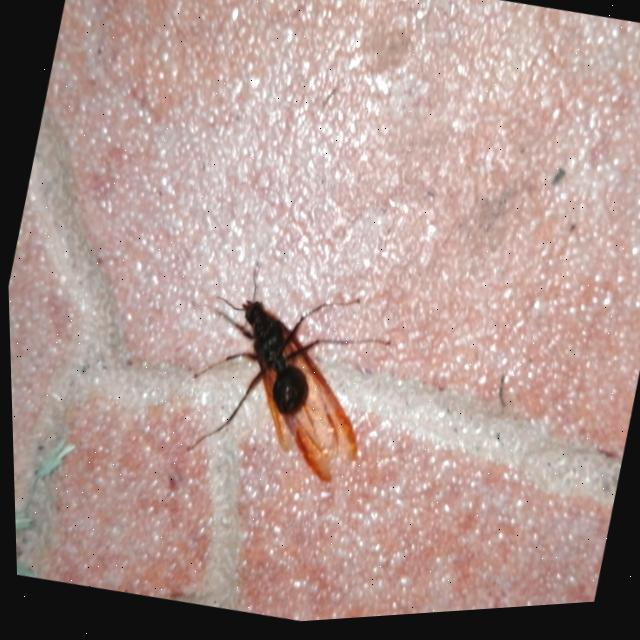Alive-Male-Alate: (169, 248, 404, 502)
